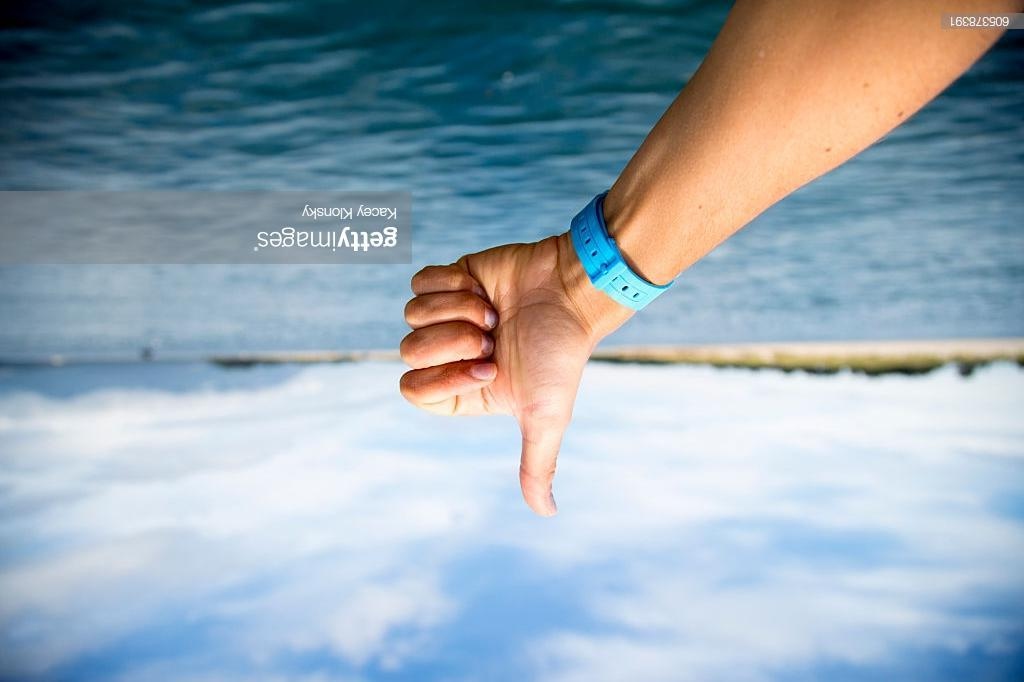thumbsdown: (400, 262, 561, 518)
